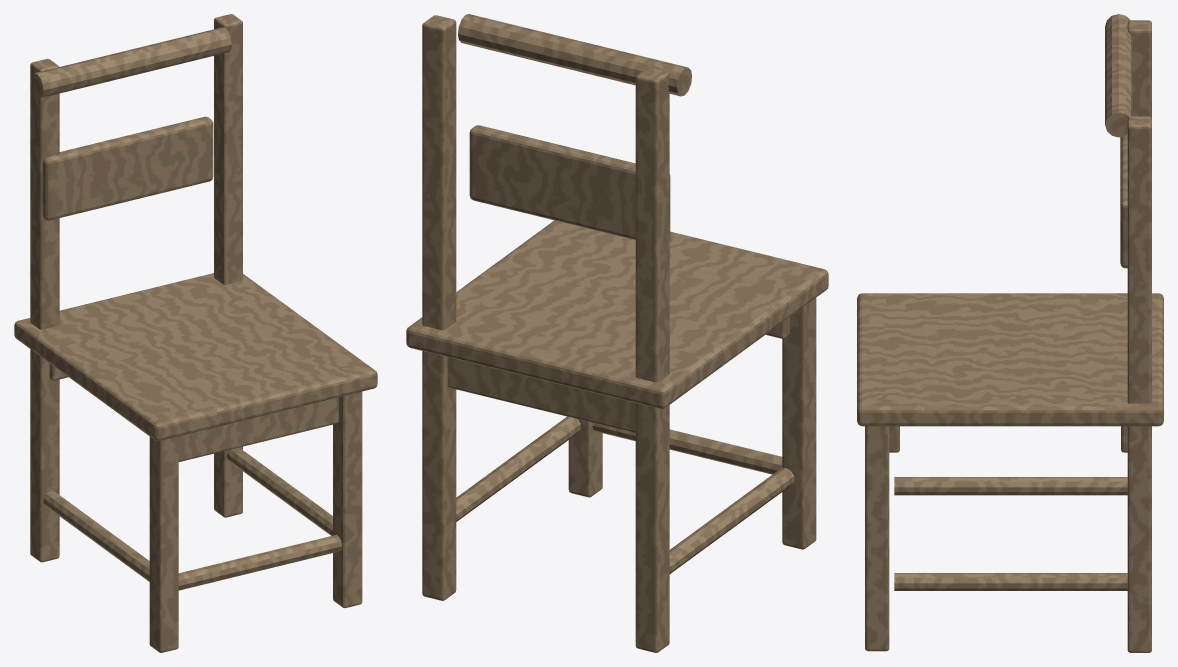
File: FUR_WoodChair_Broken.fbx
3 views of the same model, side by side, from view 1: azimuth 30°, elevation 25°; view 2: azimuth 150°, elevation 25°; view 3: azimuth 270°, elevation 25° (orthographic). The views are drawn at different scales.
Visible parts, largest first — view 1: Chair_Seat, Chair_Legs_Back, Chair_Back, Chair_Legs_Front; view 2: Chair_Seat, Chair_Legs_Back, Chair_Back, Chair_Legs_Front; view 3: Chair_Seat, Chair_Legs_Back, Chair_Legs_Front, Chair_Back.
Boxes of the visible parts, <box> form: Chair_Seat: <box>14,273,377,461</box>; Chair_Legs_Back: <box>30,14,332,581</box>; Chair_Back: <box>30,27,231,220</box>; Chair_Legs_Front: <box>149,364,362,652</box>; Chair_Seat: <box>406,220,828,432</box>; Chair_Legs_Back: <box>422,15,794,652</box>; Chair_Back: <box>458,14,691,240</box>; Chair_Legs_Front: <box>568,266,816,549</box>; Chair_Seat: <box>857,293,1163,452</box>; Chair_Legs_Back: <box>894,20,1151,652</box>; Chair_Legs_Front: <box>865,297,889,651</box>; Chair_Back: <box>1105,14,1132,268</box>.
Bounding box in the file's own units: 45 × 95.25 × 50.
